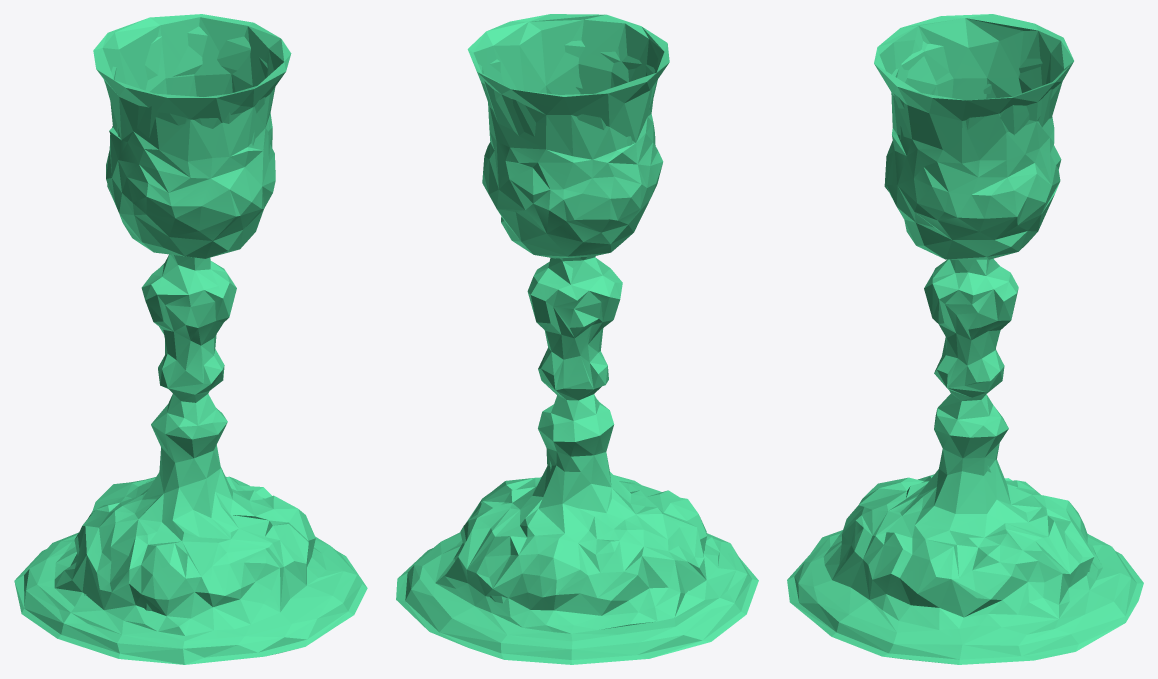
The model's file is goblet.fbx.
3 renders of one model, left to right at view 1: azimuth 30°, elevation 25°; view 2: azimuth 150°, elevation 25°; view 3: azimuth 270°, elevation 25°, orthographic.
Visible parts, largest first — view 1: kielich; view 2: kielich; view 3: kielich.
Part boxes in pixels (<box>): kielich: <box>14,14,367,664</box>; kielich: <box>396,14,758,664</box>; kielich: <box>787,14,1143,664</box>.
Bounding box in the file's own units: 1162 × 1962 × 1178.
